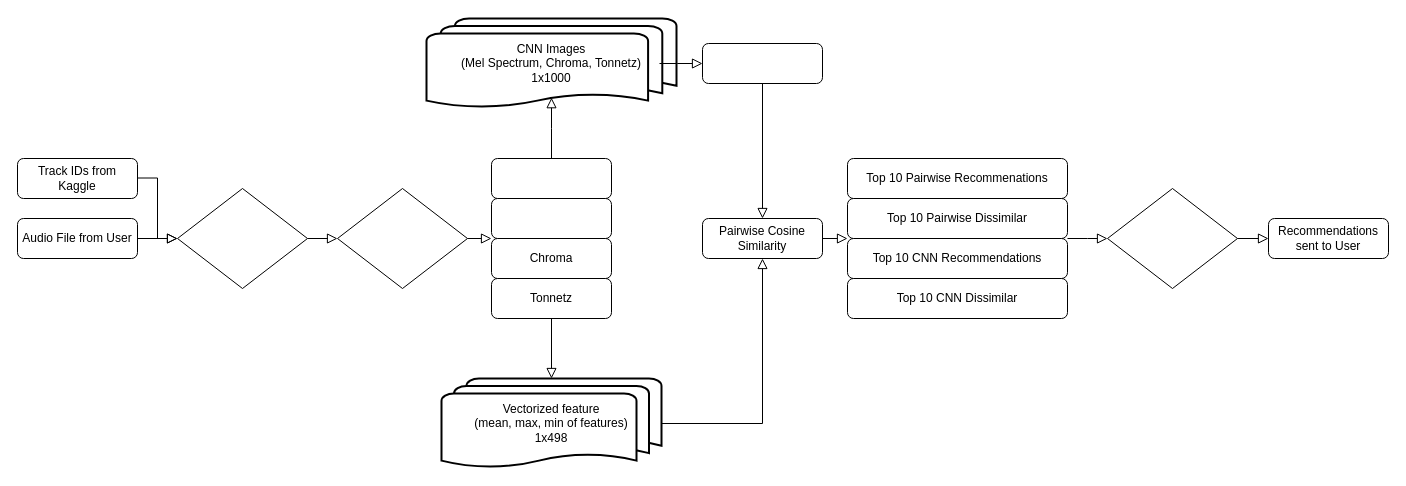
This 1406x486 diagram has some shape labels left out. Each missing label, with the box of its shape:
Download MP3s (spotify_dl): (176, 188, 308, 288)
Extract Audio Features: (336, 188, 468, 288)
Mel Spectrum: (490, 198, 612, 238)
MFCC: (490, 158, 612, 198)
Playlist Generator: (1106, 188, 1238, 288)
ResNet50 CNN: (702, 42, 822, 84)
